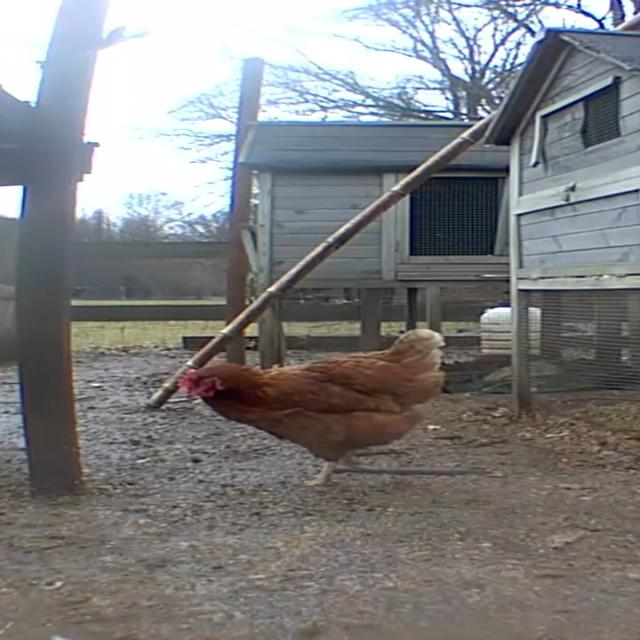walking: (154, 326, 477, 486)
